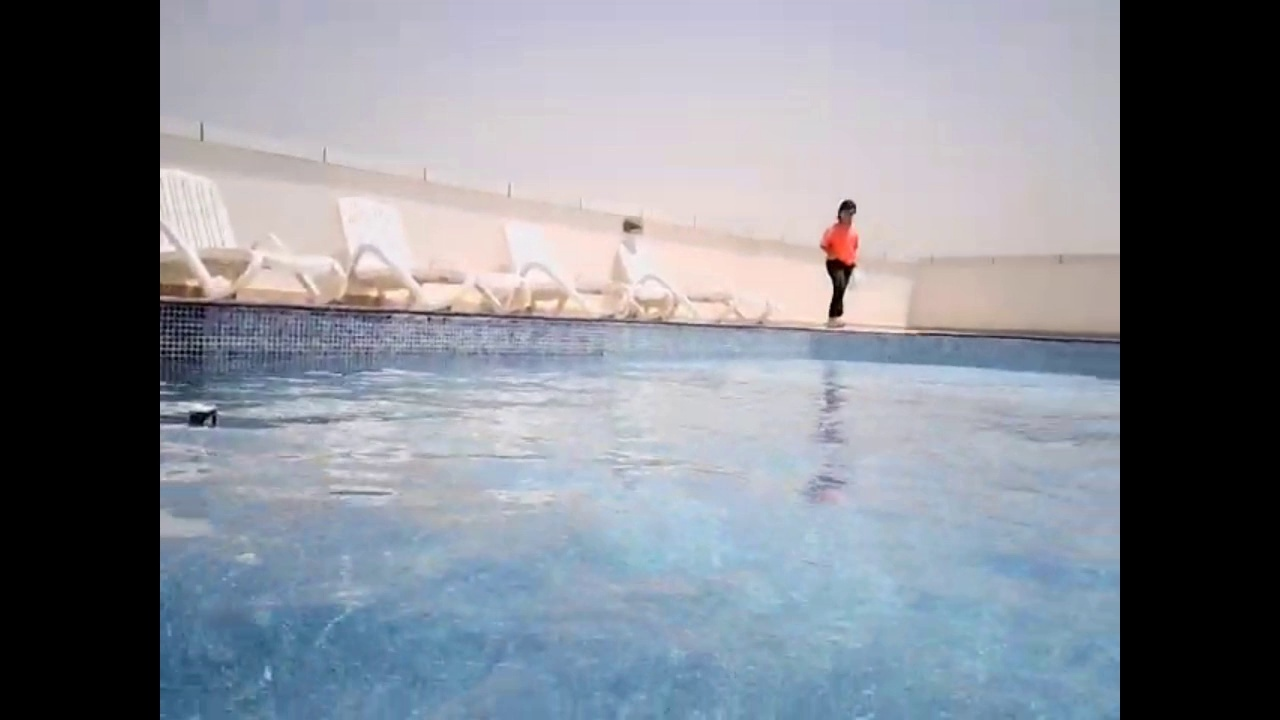debris: (185, 399, 222, 439)
